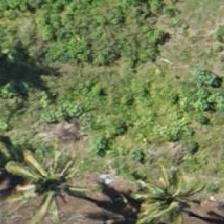coconut_tree: (116, 153, 206, 223), (0, 133, 52, 223)
